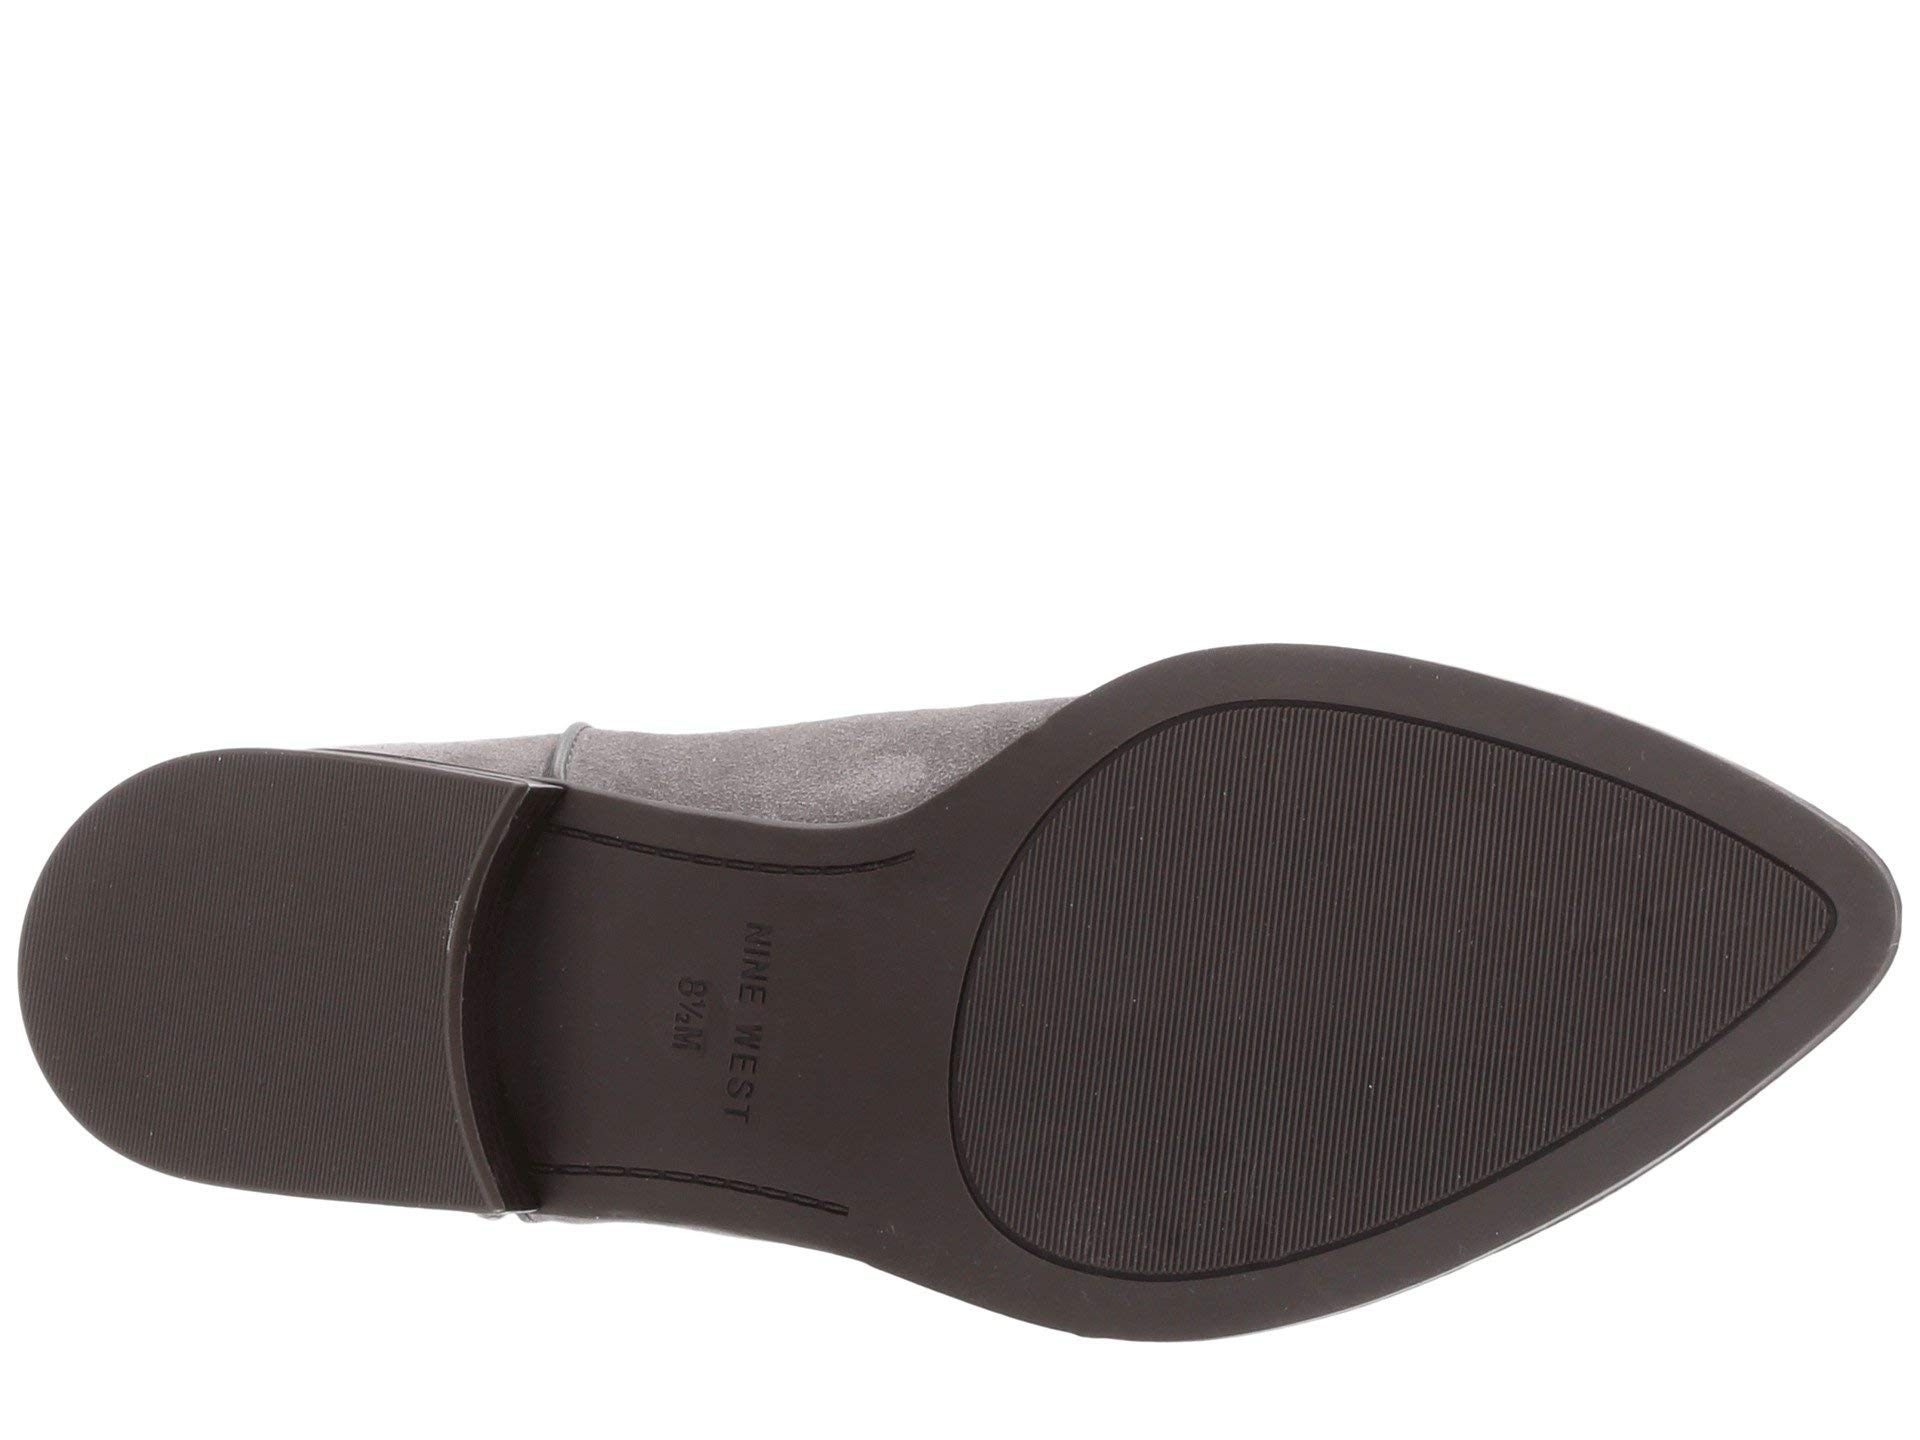line: (1123, 759, 1547, 1153), (104, 802, 425, 1134), (590, 858, 844, 1159)
text: (590, 858, 844, 1159)
